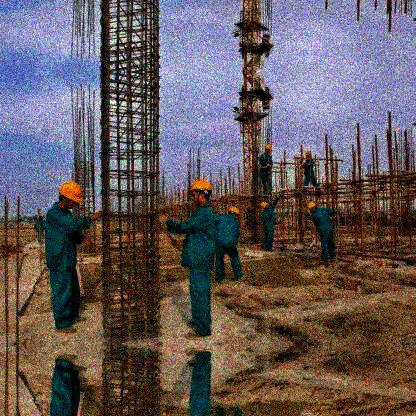helmet: (58, 181, 83, 210), (191, 178, 212, 205), (306, 201, 317, 214), (304, 149, 312, 158), (265, 144, 272, 154)
